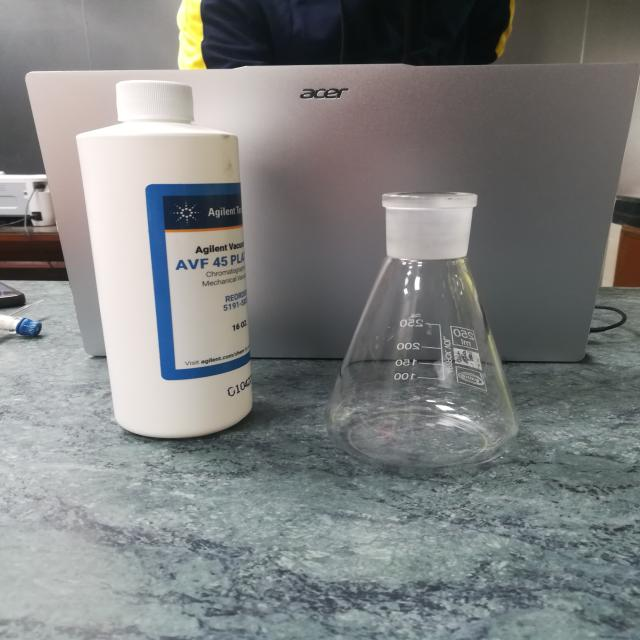Conical_Flask: (308, 121, 576, 482)
